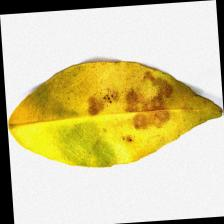black spot: (76, 74, 176, 144)
